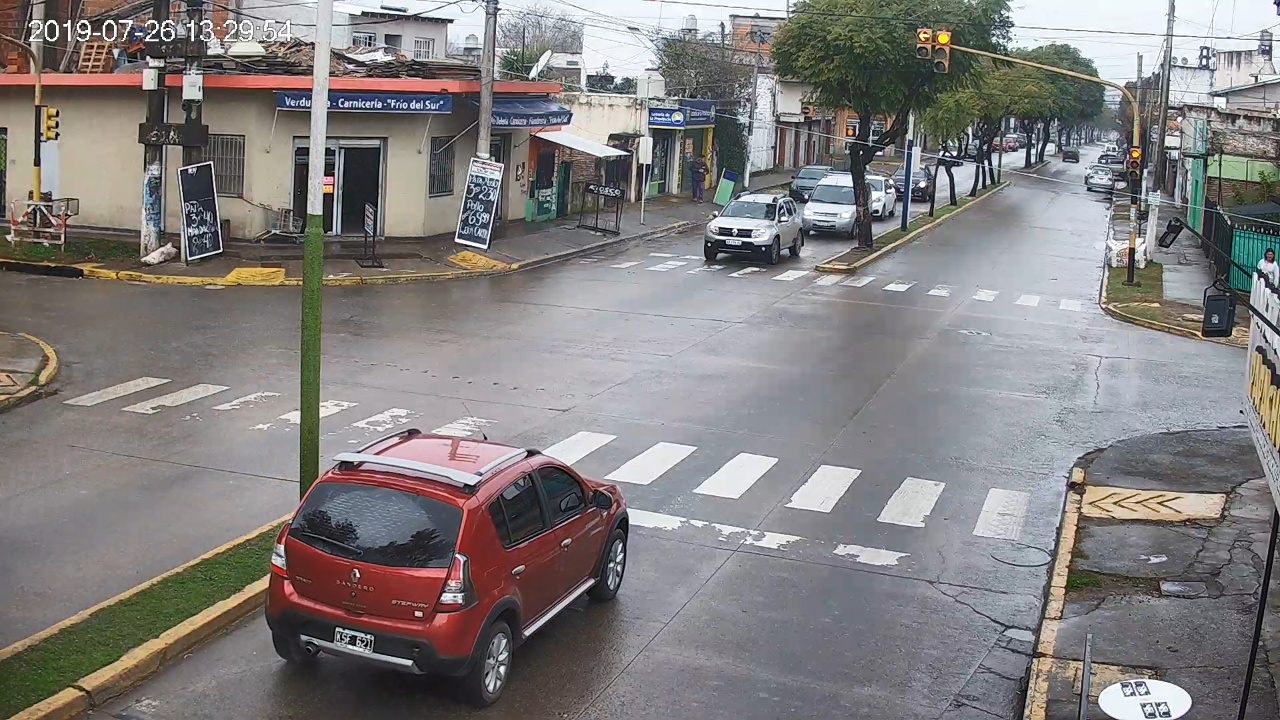car: (266, 427, 631, 705)
front car: (704, 191, 802, 265)
traffic light: (935, 31, 949, 72), (1129, 147, 1139, 178)
